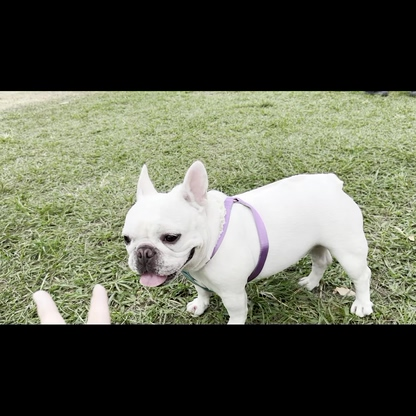bulldog: (118, 160, 375, 322)
